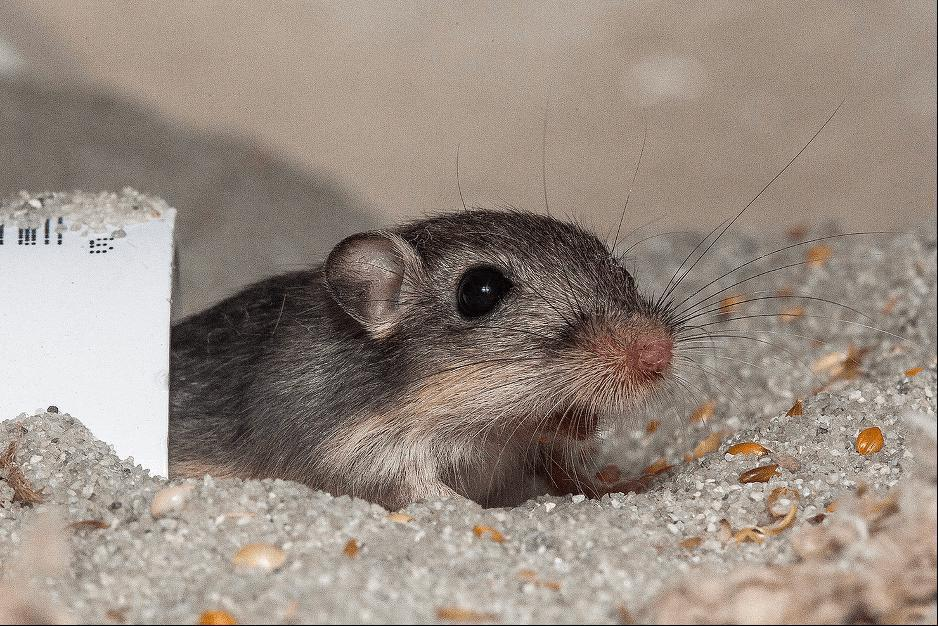rat: (169, 210, 677, 509)
